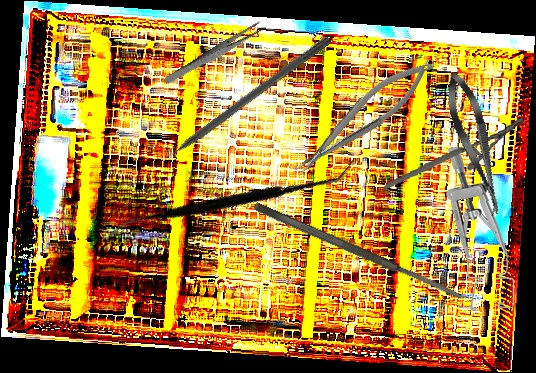Dressing Forceps: (162, 20, 266, 88)
Micro Scissor: (439, 69, 512, 219)
Needle Holder: (282, 50, 444, 183), (376, 115, 532, 190)
Pusher: (147, 33, 333, 173)
Spatula Surgical: (106, 73, 357, 324), (251, 199, 467, 305)
Speculum: (443, 146, 518, 313)
